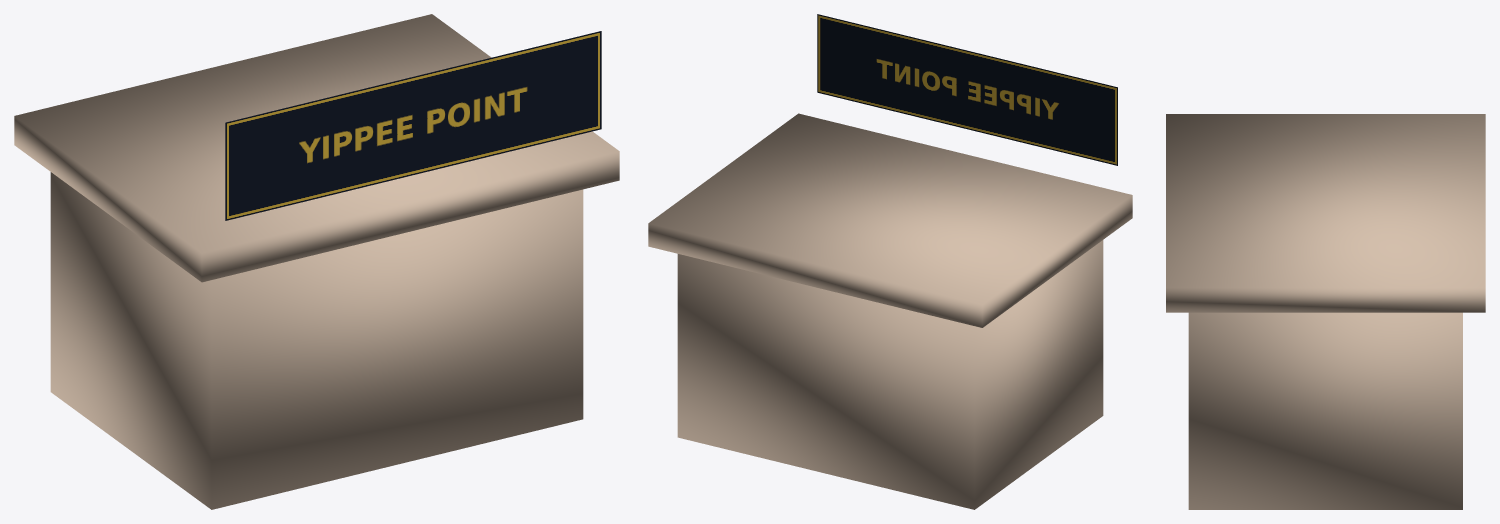
File: yippee-point.glb
3 views of the same model, side by side, from view 1: azimuth 30°, elevation 25°; view 2: azimuth 150°, elevation 25°; view 3: azimuth 270°, elevation 25° (orthographic). The views are drawn at different scales.
Visible parts, largest first — view 1: Model, Sign; view 2: Model, Sign; view 3: Model.
Boxes of the visible parts, x1,y1,x2,y2 form: Model: [14, 14, 619, 509]; Sign: [225, 31, 601, 220]; Model: [648, 113, 1132, 509]; Sign: [817, 14, 1117, 165]; Model: [1166, 114, 1485, 509].
Bounding box in the file's own units: 4.5 × 4.11 × 3.55.
1 material, 1 textured.
